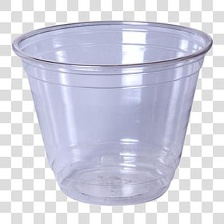glass: (2, 17, 216, 207)
